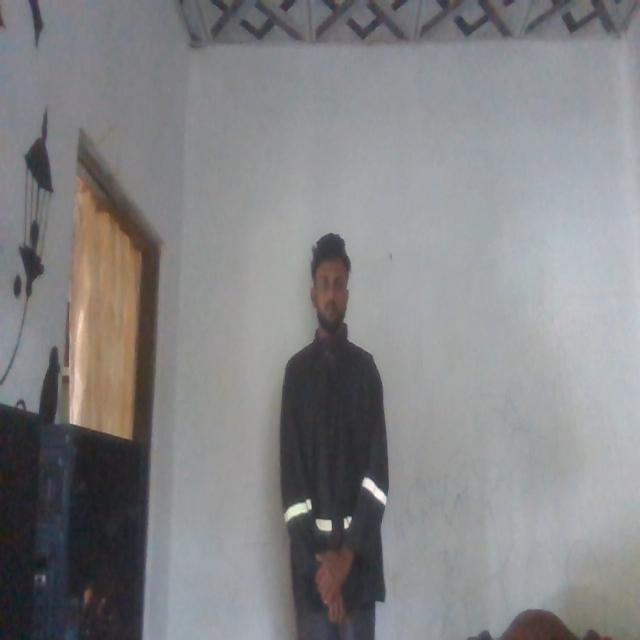Jacket_Wearer: (277, 330, 389, 610)
Person: (275, 243, 400, 640)
